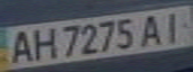2: (78, 20, 103, 56)
5: (115, 15, 142, 51)
7: (96, 18, 121, 53), (57, 22, 81, 58)
A: (3, 27, 36, 64), (136, 11, 169, 47)
H: (27, 25, 60, 61)
I: (157, 8, 190, 44)
